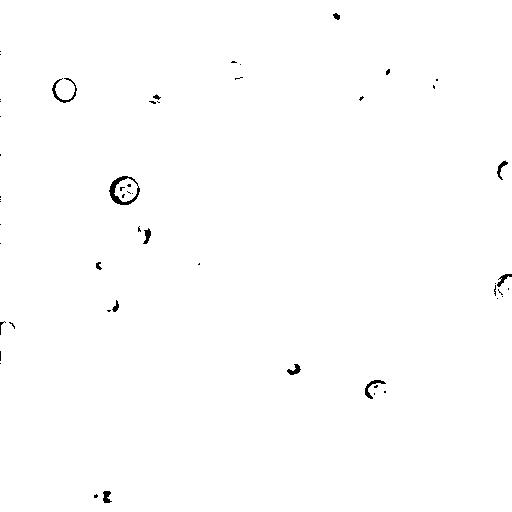micro-algae: (90, 155, 169, 235), (107, 175, 141, 205), (322, 1, 352, 33), (77, 483, 109, 511), (188, 254, 215, 283), (491, 270, 512, 307), (174, 288, 202, 315), (86, 251, 113, 278), (52, 76, 77, 103), (222, 58, 249, 81), (425, 69, 447, 97), (363, 380, 391, 401), (377, 63, 401, 87), (130, 223, 152, 247), (153, 1, 173, 26), (355, 91, 376, 112), (283, 358, 303, 377), (101, 294, 119, 315), (496, 157, 511, 181), (0, 319, 16, 336), (99, 491, 116, 505)
